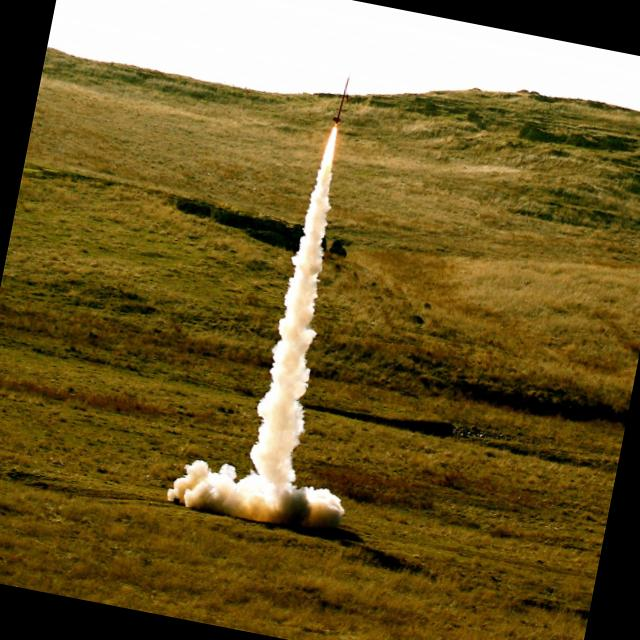rocket: (270, 70, 365, 368)
